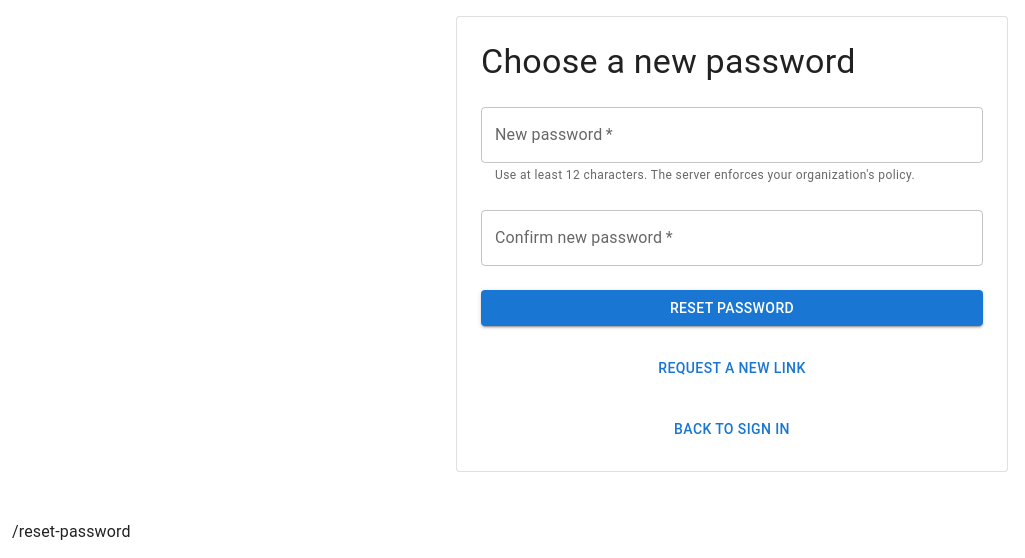
it: PRD-02 password recovery › keeps the fragment token out of history/DOM and sends it only in the mutation body
expect the text named "Location" reads "/reset-password": met, box [12, 522, 131, 541]
expect the text named "Location" does not show "single-use-token": met, box [12, 522, 131, 541]
Type "new-correct-horse-battery" into the password field labelled "New password *". click: (732, 135)
box: [481, 107, 983, 163]
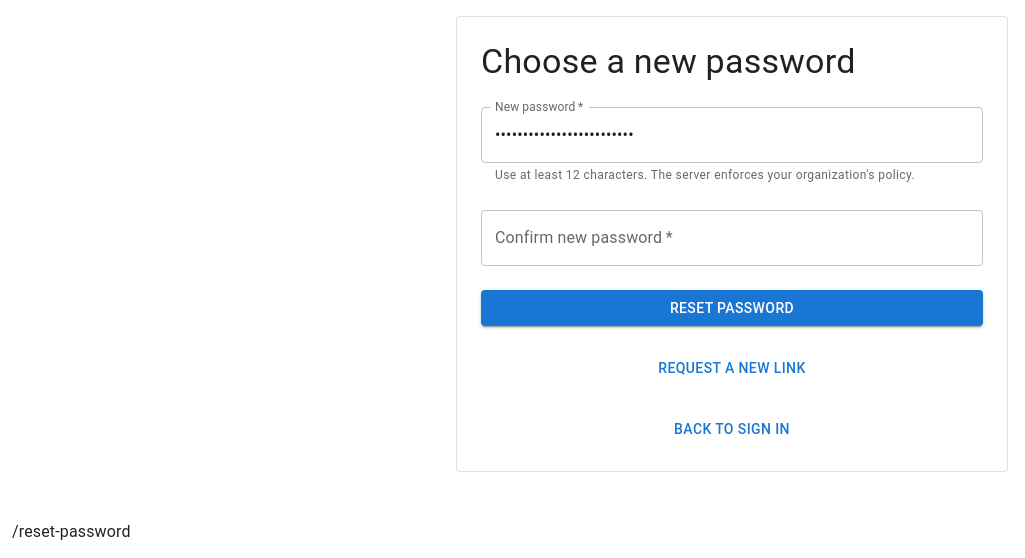
Type "new-correct-horse-battery" into the password field labelled "Confirm new password *". click: (732, 238)
box: [481, 210, 983, 266]
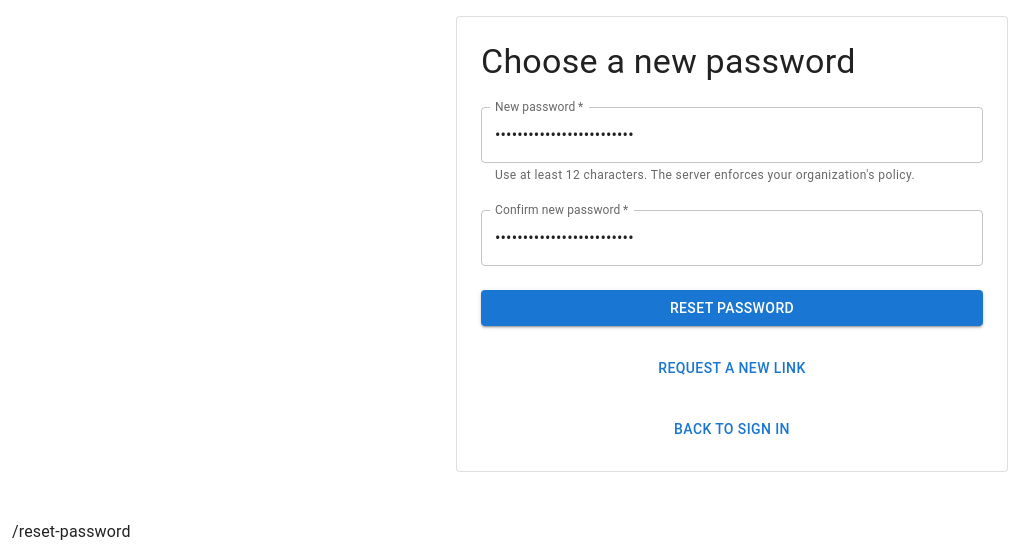
Submit the form named "Reset password", box [481, 41, 983, 447]
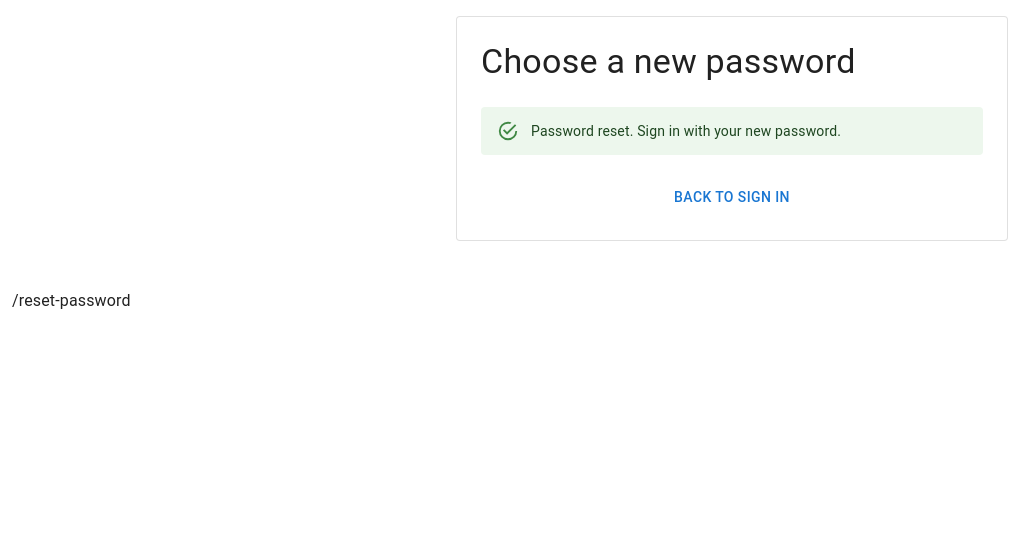
expect the text "Password reset. Sign in with your new password." is shown: met, box [531, 123, 841, 139]
